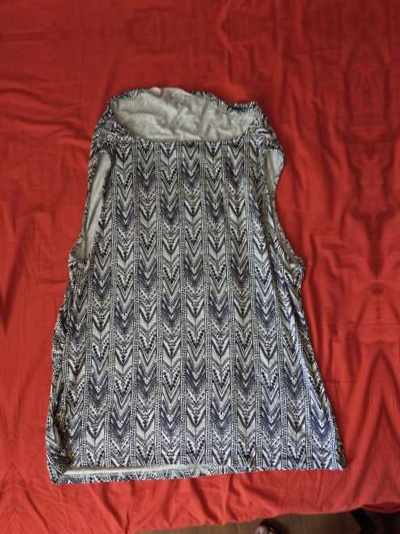Dress: (22, 59, 360, 507), (393, 40, 400, 488)
